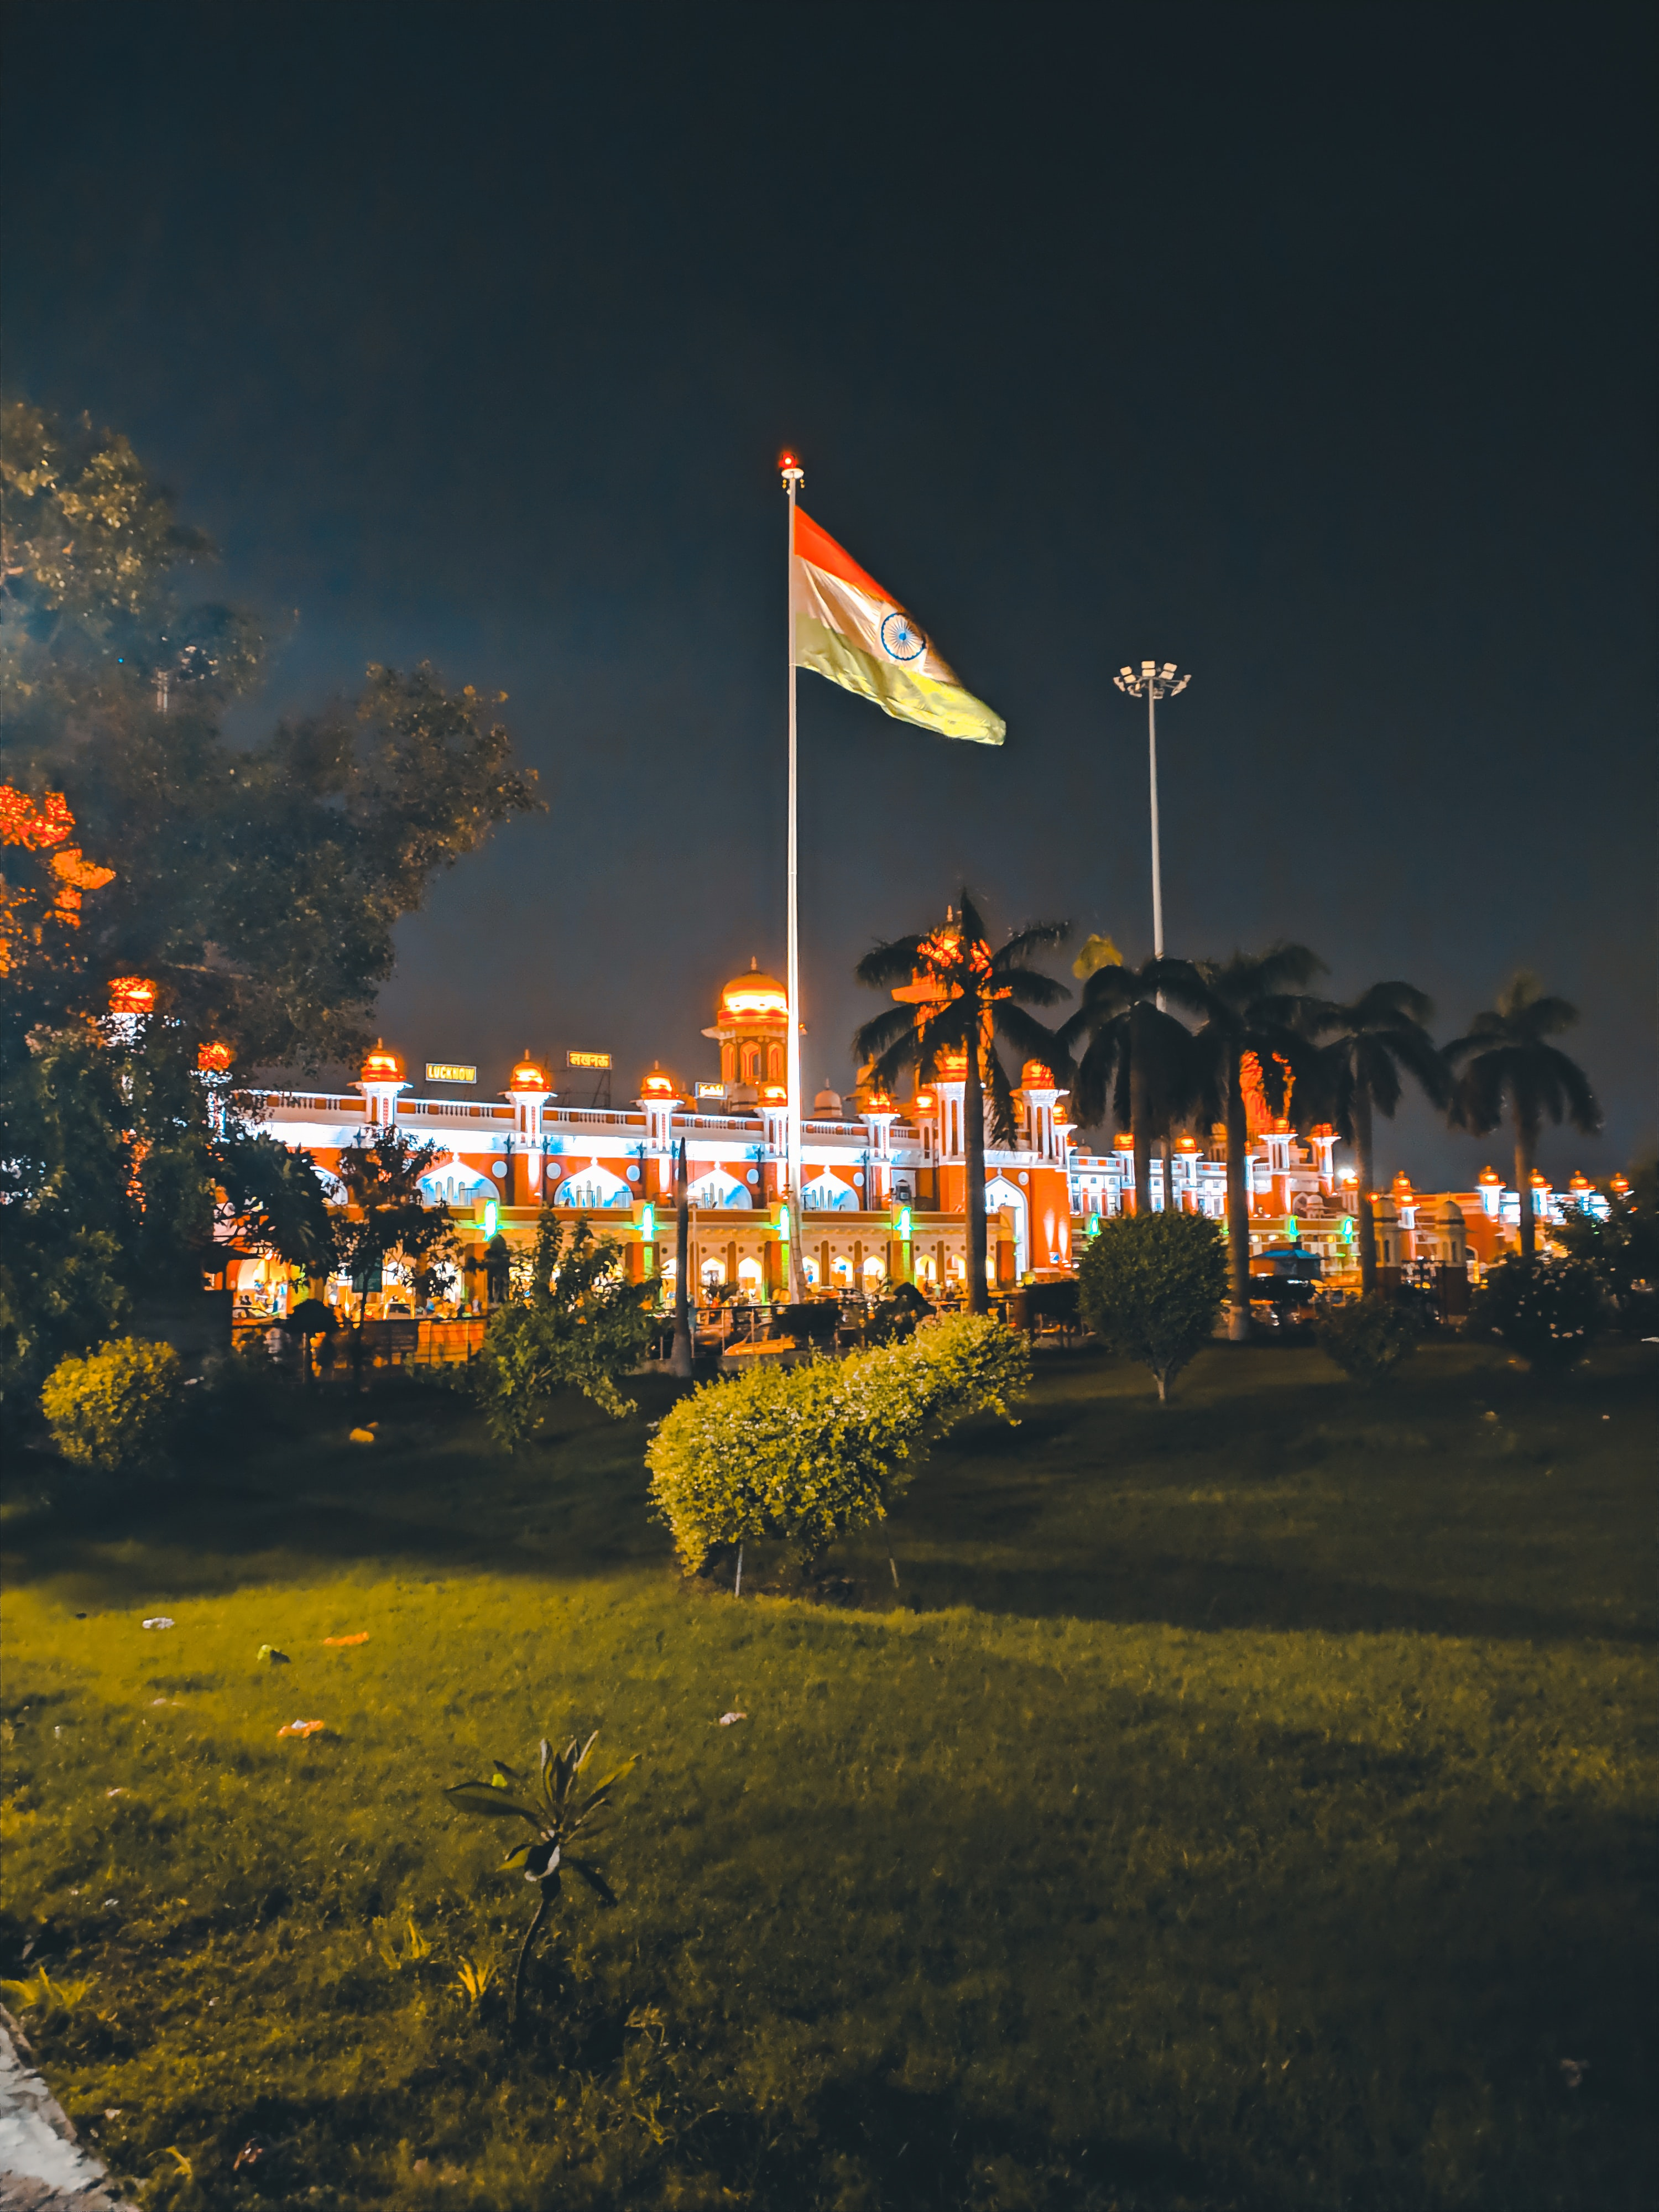Flag: (774, 460, 1012, 765)
